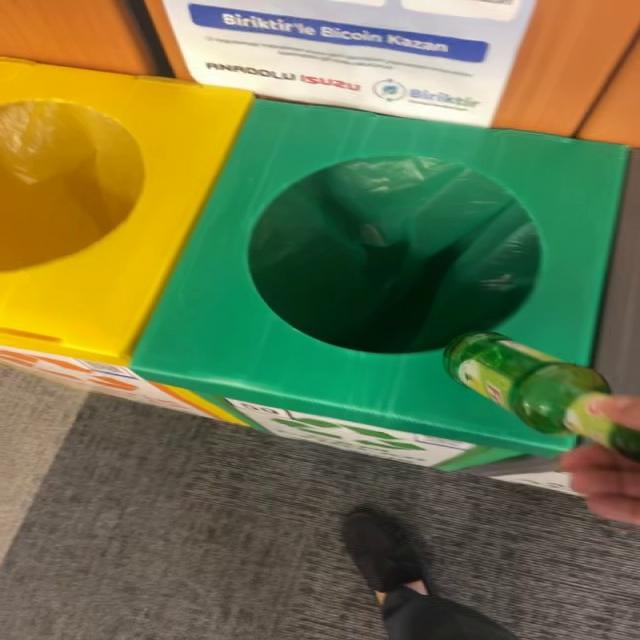glass: (444, 333, 640, 462)
